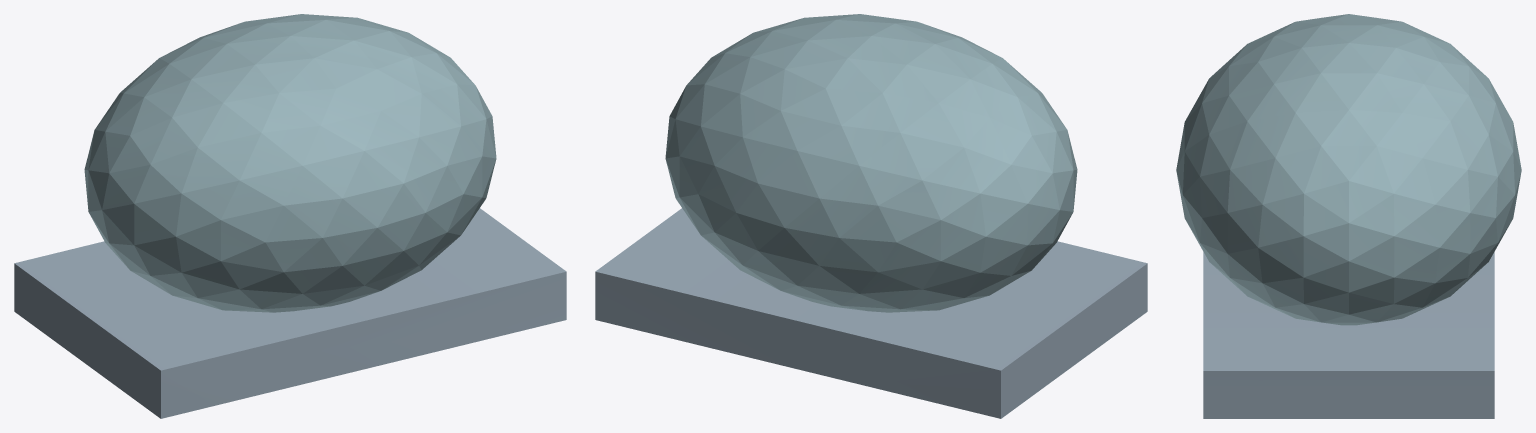
The model's file is stadium-08.glb.
The picture shows the model from 3 angles, left to right: view 1: azimuth 30°, elevation 25°; view 2: azimuth 150°, elevation 25°; view 3: azimuth 270°, elevation 25°; orthographic projection.
Parts seen in each view (by area): view 1: world; view 2: world; view 3: world.
Boxes of the visible parts, box(x1,y1,x2,y2) form: world: box(14, 14, 566, 418); world: box(595, 14, 1147, 418); world: box(1176, 14, 1521, 418).
Size of the model in its own units: 1.76 by 1.16 by 1.31.
